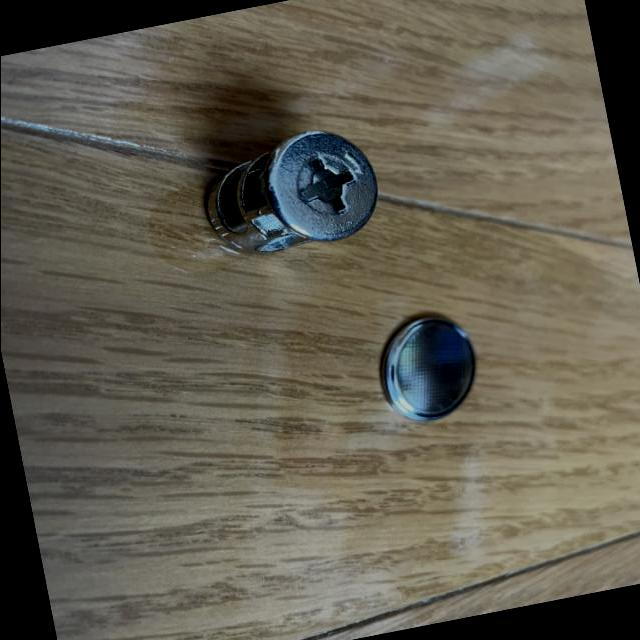COIN: (368, 310, 486, 430)
